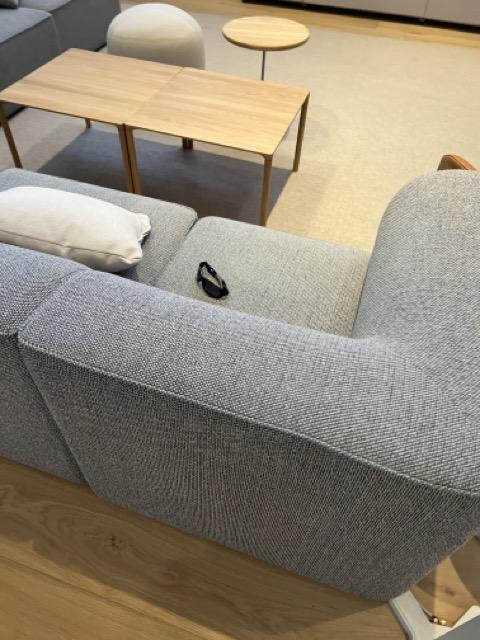Sunglasses: (195, 260, 230, 301)
